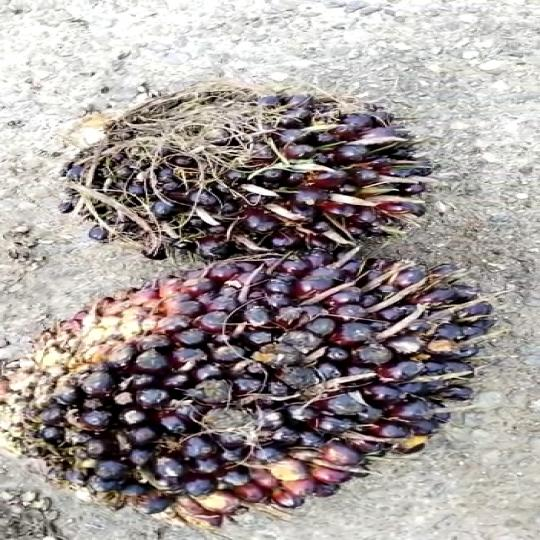mentah: (0, 251, 505, 531), (67, 72, 408, 260)
